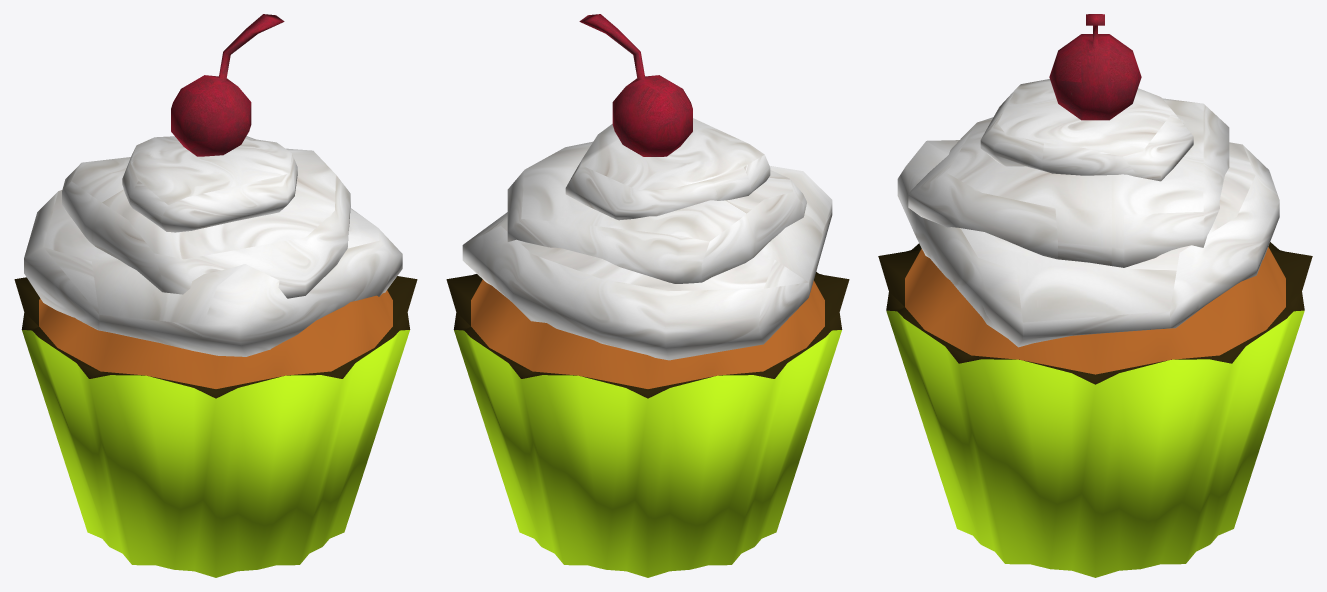
File: CUPCAKE03.FBX
The picture shows the model from 3 angles, left to right: view 1: azimuth 30°, elevation 25°; view 2: azimuth 150°, elevation 25°; view 3: azimuth 270°, elevation 25°; orthographic projection. The views are drawn at different scales.
Parts seen in each view (by area): view 1: Cylinder001, Box003, Object002, Object001, Sphere001; view 2: Cylinder001, Box003, Object002, Object001, Sphere001; view 3: Cylinder001, Box003, Object002, Object001, Sphere001.
Boxes of the visible parts, x1,y1,x2,y2 form: Cylinder001: (14, 276, 417, 577); Box003: (24, 190, 402, 356); Object002: (62, 148, 350, 298); Object001: (122, 136, 297, 232); Sphere001: (171, 14, 284, 156); Cylinder001: (446, 272, 849, 577); Box003: (462, 166, 832, 360); Object002: (507, 141, 806, 283); Object001: (565, 118, 770, 220); Sphere001: (579, 14, 692, 156); Cylinder001: (878, 242, 1312, 577); Box003: (897, 140, 1279, 347); Object002: (908, 98, 1229, 267); Object001: (980, 79, 1193, 181); Sphere001: (1049, 14, 1141, 120).
Size of the model in its own units: 50.19 by 67.93 by 50.35.
Materials: 5 (2 with a texture image).
